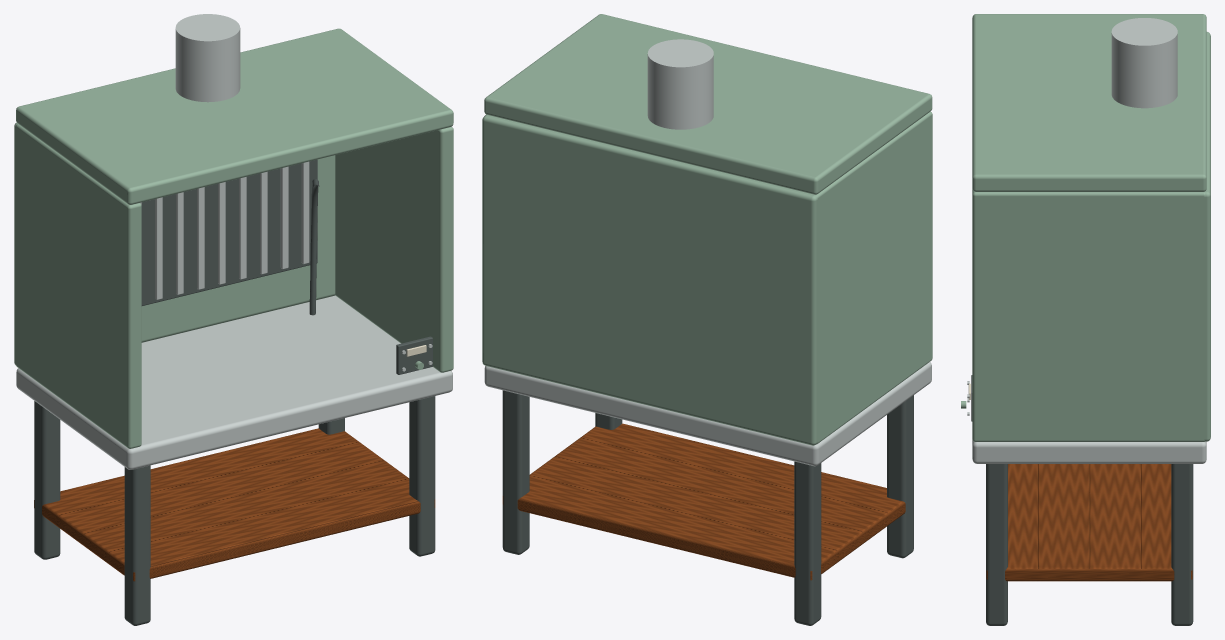
File: ceramics-pottery-studio-spray-booth-8a07a28a__29496.glb
3 views of the same model, side by side, from view 1: azimuth 30°, elevation 25°; view 2: azimuth 150°, elevation 25°; view 3: azimuth 270°, elevation 25° (orthographic). The views are drawn at different scales.
Parts seen in each view (by area): view 1: spray-booth; view 2: spray-booth; view 3: spray-booth.
Boxes of the visible parts, bbox=[...] form: spray-booth: bbox=[14, 14, 453, 625]; spray-booth: bbox=[482, 14, 932, 625]; spray-booth: bbox=[961, 14, 1210, 625].
Size of the model in its own units: 1.4 by 2.08 by 0.906.
Materials: 5 (1 with a texture image).
